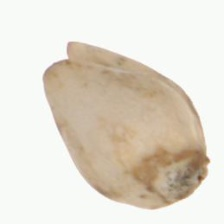L1: (171, 152, 210, 205), (42, 39, 80, 81)
L2: (42, 39, 210, 209)
